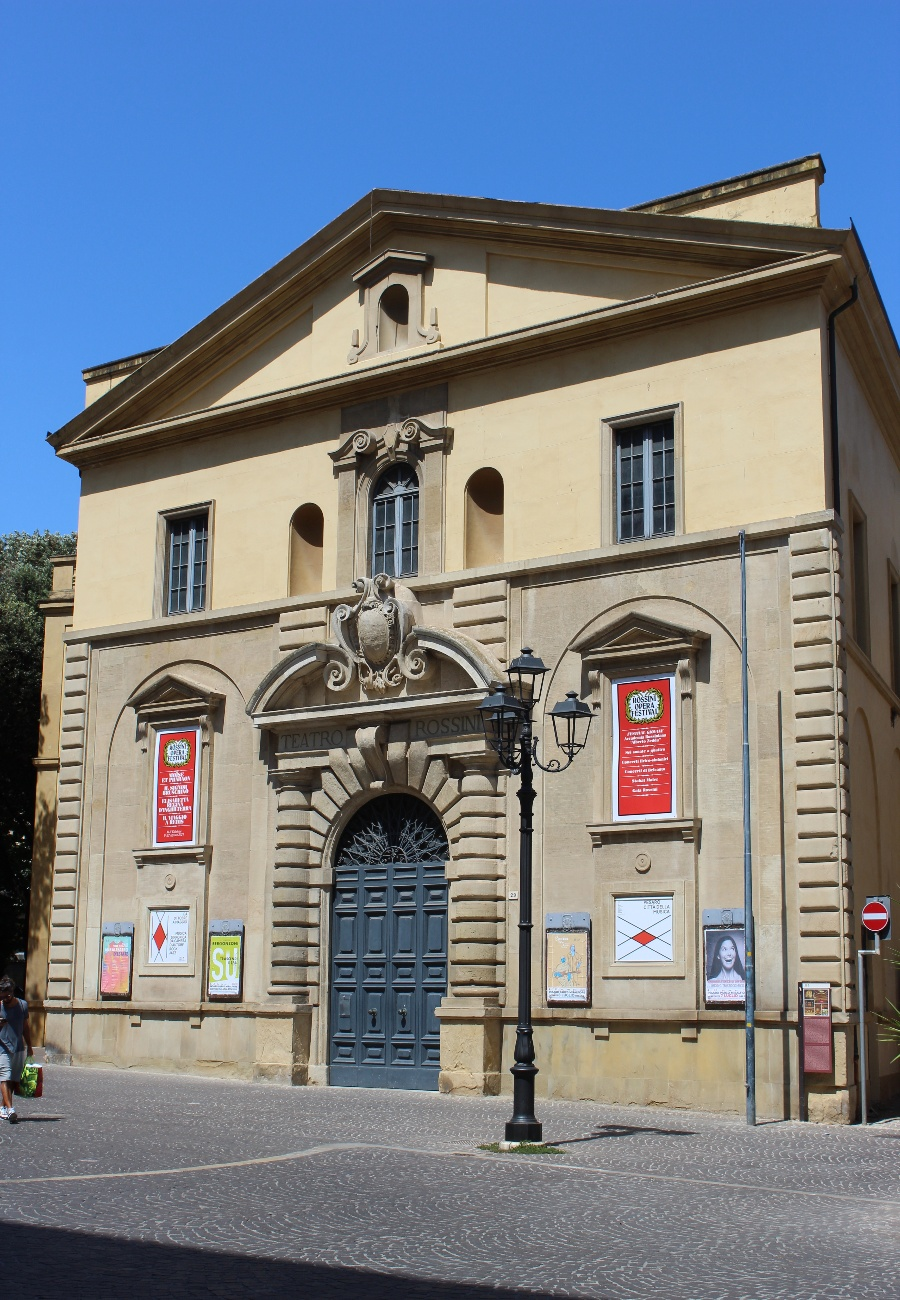Teatro Rossini: (53, 163, 848, 1128)
